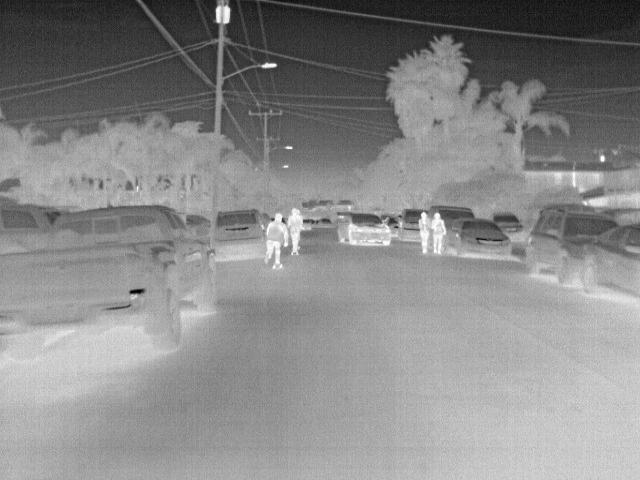car: (6, 203, 219, 363), (525, 206, 621, 282), (575, 219, 639, 301), (208, 209, 271, 260), (448, 218, 516, 262), (6, 205, 62, 254), (339, 214, 394, 246), (493, 210, 528, 239), (397, 209, 426, 241), (436, 208, 474, 221), (318, 218, 337, 228)
person: (262, 211, 286, 262), (287, 207, 306, 256), (432, 212, 447, 254), (419, 211, 433, 254)
